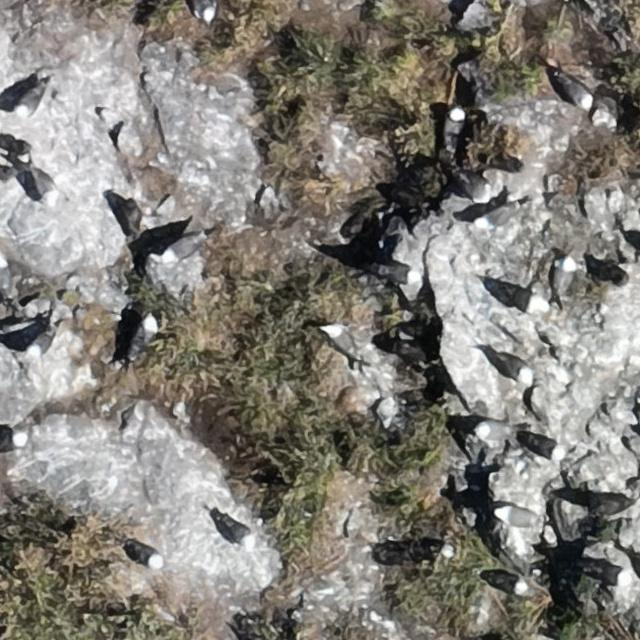umineko: (322, 321, 362, 367), (496, 285, 549, 314), (216, 514, 257, 551), (128, 316, 158, 362), (475, 203, 526, 228), (494, 506, 542, 530), (26, 169, 57, 206), (163, 234, 203, 261), (561, 78, 595, 108), (495, 356, 531, 380), (486, 573, 525, 594), (126, 542, 160, 566), (15, 88, 41, 118), (477, 421, 517, 440), (528, 436, 560, 458), (380, 264, 417, 282), (554, 258, 573, 291), (445, 108, 464, 138), (28, 332, 50, 355), (596, 566, 624, 584), (2, 430, 26, 449), (195, 1, 215, 22), (439, 542, 455, 558)
